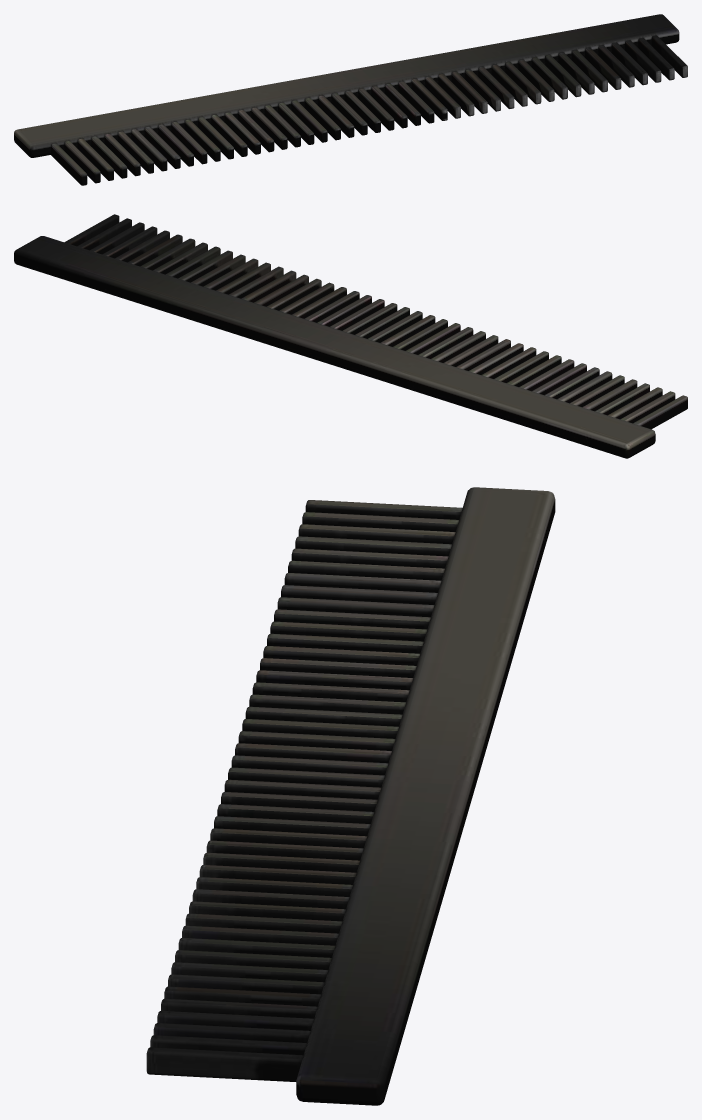
The model's file is comb.glb.
3 views of the same model, one above another, from view 1: azimuth 30°, elevation 25°; view 2: azimuth 150°, elevation 25°; view 3: azimuth 270°, elevation 25° (orthographic). The views are drawn at different scales.
Parts seen in each view (by area): view 1: comb_tooth, comb_back; view 2: comb_tooth, comb_back; view 3: comb_tooth, comb_back.
Boxes of the visible parts, box(x1,y1,x2,y2) form: comb_tooth: box(50, 35, 687, 185); comb_back: box(14, 14, 679, 157); comb_tooth: box(64, 214, 687, 429); comb_back: box(14, 236, 655, 458); comb_tooth: box(146, 500, 462, 1081); comb_back: box(296, 487, 555, 1105).
Bounding box in the file's own units: 0.1898 × 0.004 × 0.0549.
2 materials, 2 textured.
